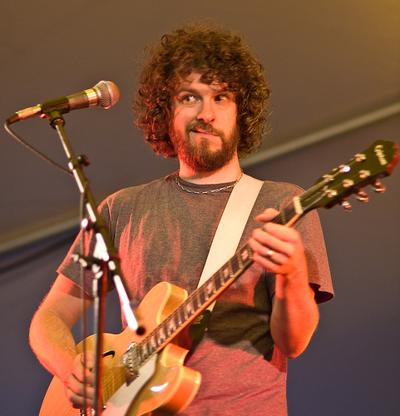person: (28, 27, 336, 416)
